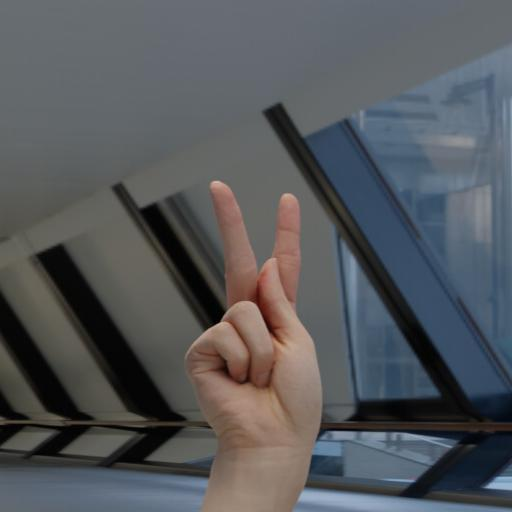K: (173, 176, 333, 493)
